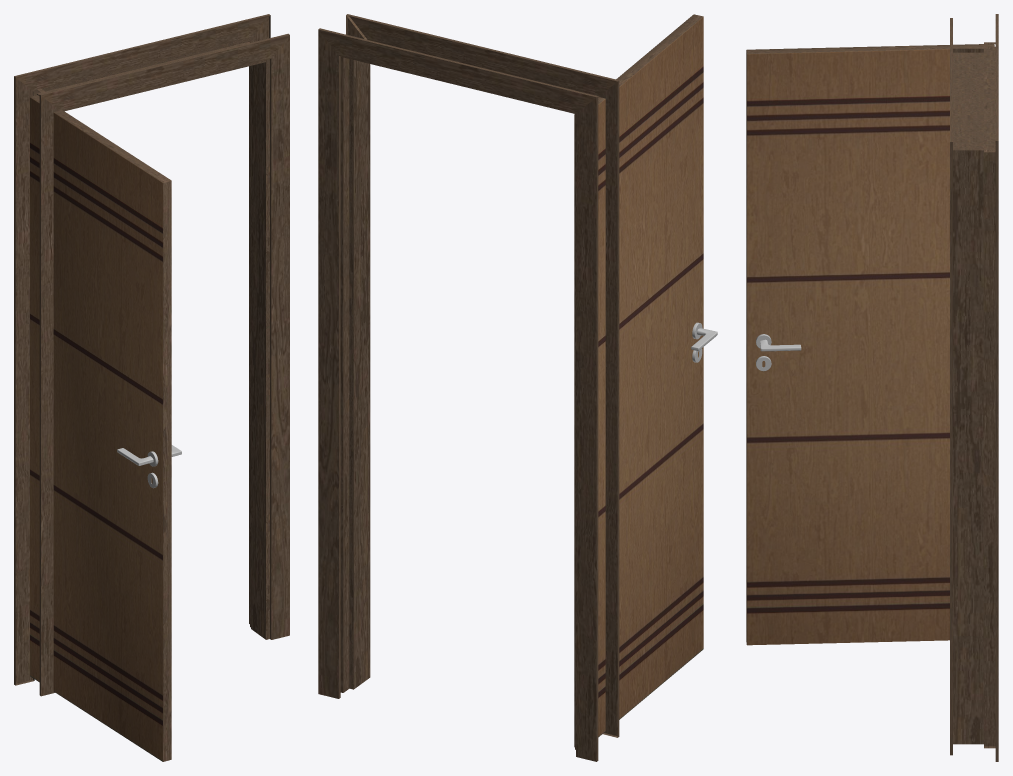
File: door.glb
The picture shows the model from 3 angles, left to right: view 1: azimuth 30°, elevation 25°; view 2: azimuth 150°, elevation 25°; view 3: azimuth 270°, elevation 25°; orthographic projection. The views are drawn at different scales.
Visible parts, largest first — view 1: POrta PB184, Cube.003, Cube.002, Cube, Cube.001; view 2: POrta PB184, Cube.002, Cube, Cube.003; view 3: POrta PB184, Cube, Cube.001, Cube.002, Cube.003.
Boxes of the visible parts, box(x1,y1,x2,y2) form: POrta PB184: box(30, 95, 181, 761); Cube.003: box(39, 33, 289, 696); Cube.002: box(14, 14, 270, 685); Cube: box(33, 41, 269, 639); Cube.001: box(33, 37, 265, 111); POrta PB184: box(574, 14, 717, 747); Cube.002: box(318, 28, 598, 761); Cube: box(340, 57, 575, 749); Cube.003: box(346, 14, 619, 737); POrta PB184: box(746, 44, 994, 645); Cube: box(953, 48, 995, 748); Cube.001: box(953, 42, 995, 152); Cube.002: box(995, 14, 998, 761); Cube.003: box(950, 18, 952, 755).
Size of the model in its own units: 0.9672 by 2.21 by 0.8125.
Materials: 6 (4 with a texture image).
